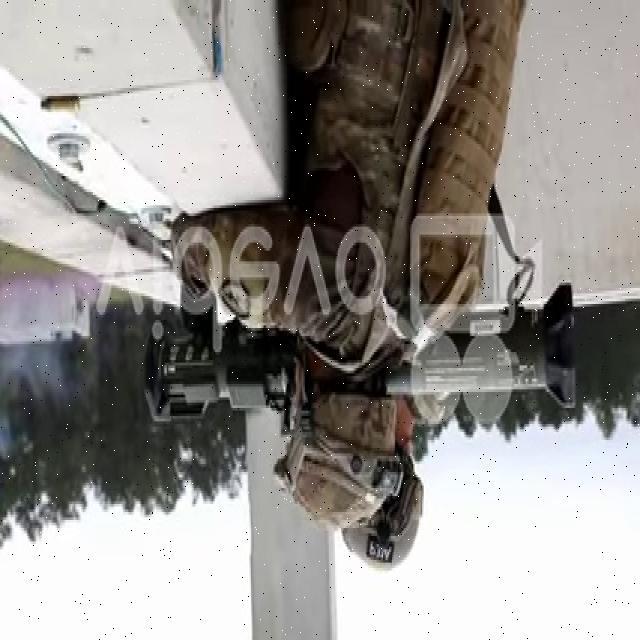bazooka: (149, 270, 584, 425)
